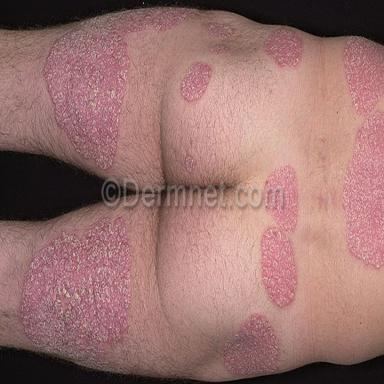Psoriasis: (43, 9, 189, 169), (22, 217, 131, 361), (342, 112, 384, 267), (261, 165, 298, 307), (221, 313, 280, 375), (343, 37, 384, 116), (265, 30, 302, 67), (181, 63, 211, 102), (208, 23, 233, 39), (210, 45, 229, 55), (185, 156, 195, 172)
